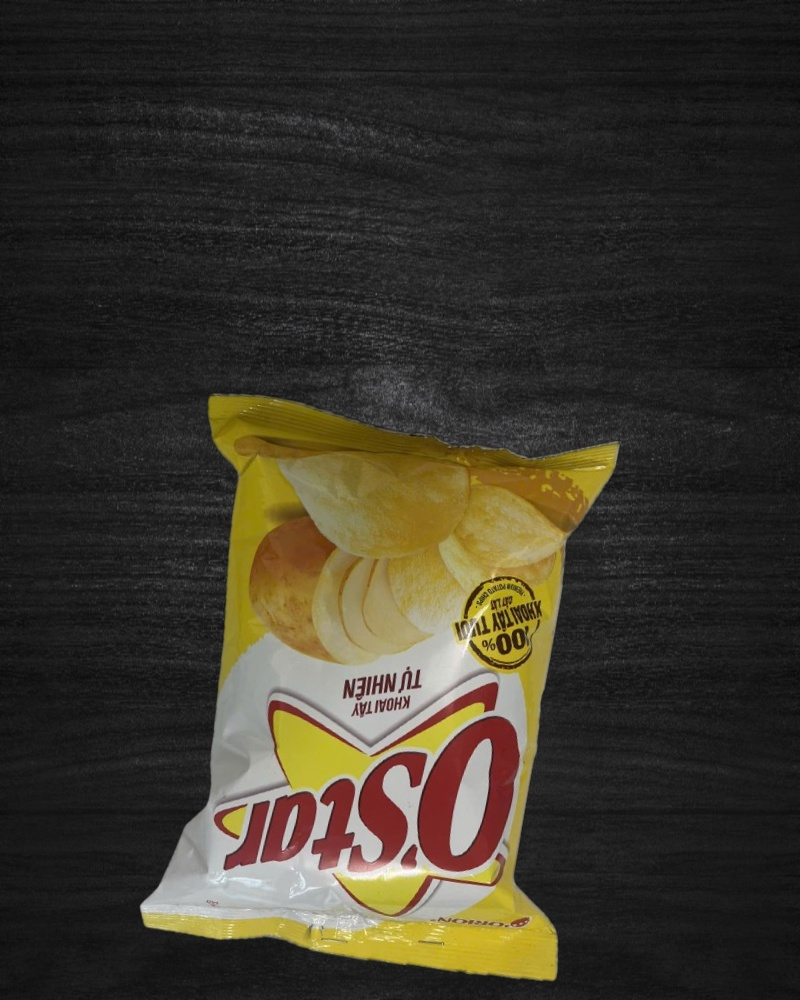Snack cua: (123, 378, 647, 993)
